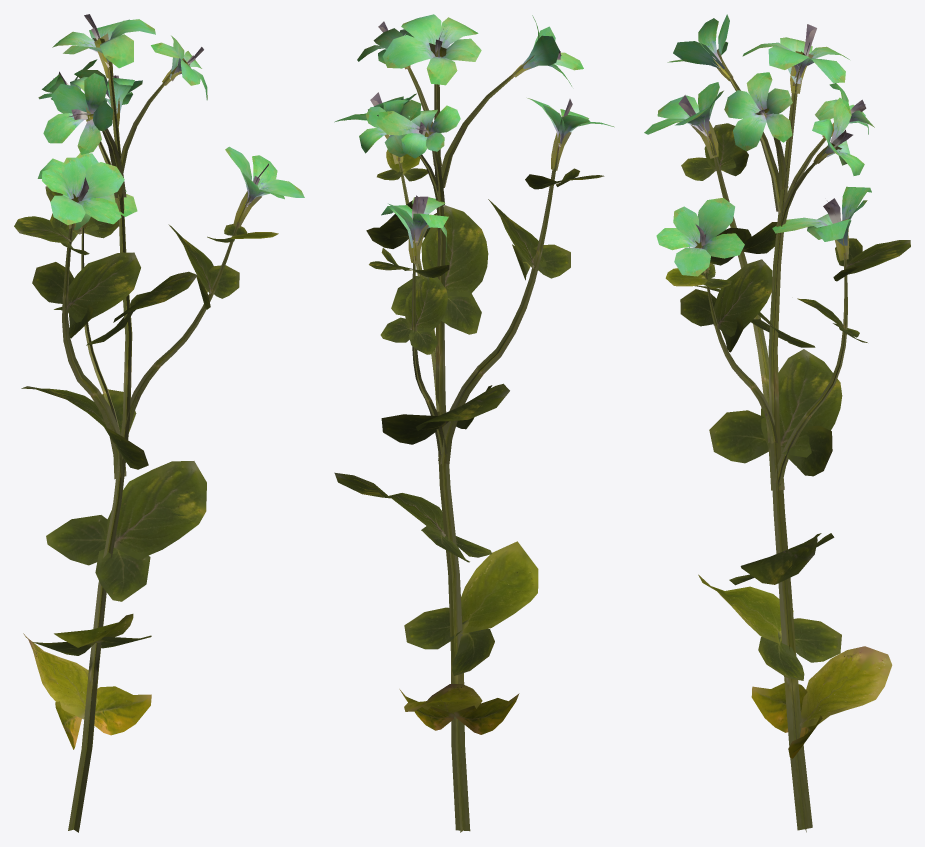
File: Periwinkle_baby_short_greenyellow.glb
3 views of the same model, side by side, from view 1: azimuth 30°, elevation 25°; view 2: azimuth 150°, elevation 25°; view 3: azimuth 270°, elevation 25° (orthographic).
Parts seen in each view (by area): view 1: _b868_Var1_LOD1; view 2: _b868_Var1_LOD1; view 3: _b868_Var1_LOD1.
Part boxes in pixels (x1,y1,x2,y2): _b868_Var1_LOD1: (14, 14, 304, 832); _b868_Var1_LOD1: (334, 14, 614, 832); _b868_Var1_LOD1: (644, 14, 910, 832).
Size of the model in its own units: 0.5832 by 1.66 by 0.4917.
1 material, 1 textured.
